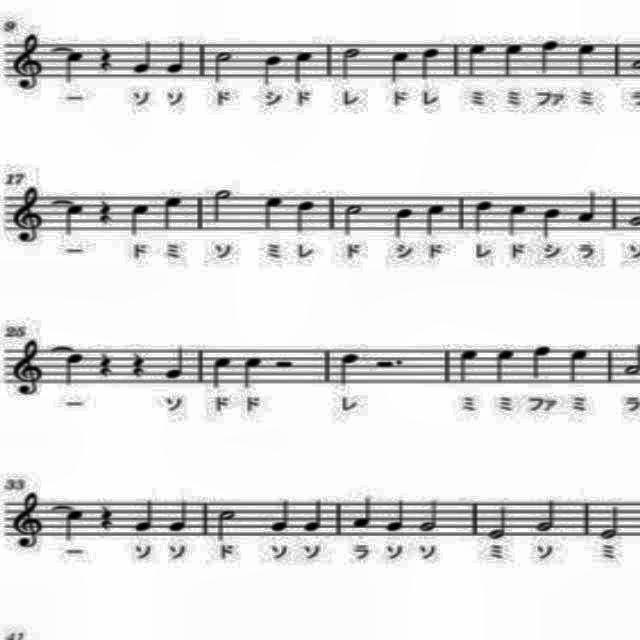Half-note: (595, 498, 629, 546), (207, 45, 239, 85), (532, 493, 560, 537), (338, 43, 366, 85), (206, 185, 234, 227), (485, 502, 511, 544), (214, 505, 242, 543), (342, 197, 366, 240), (417, 496, 441, 536)
Half-rest: (372, 352, 408, 372), (270, 356, 300, 372)
Quarter-note: (491, 341, 522, 384), (420, 196, 450, 240), (126, 195, 154, 241), (256, 192, 288, 232), (130, 34, 158, 78), (238, 350, 266, 394), (452, 342, 480, 386), (564, 344, 592, 388), (159, 190, 185, 236), (468, 195, 496, 237), (462, 40, 491, 80), (419, 42, 445, 86), (164, 36, 192, 76), (288, 44, 316, 84), (295, 198, 323, 238), (500, 40, 528, 80), (536, 37, 564, 77), (573, 38, 601, 78), (504, 199, 532, 239), (62, 350, 90, 390), (528, 342, 556, 382), (61, 504, 89, 544), (348, 493, 376, 533), (162, 344, 192, 381), (576, 189, 604, 227), (383, 49, 412, 85), (208, 351, 232, 394), (302, 495, 326, 537), (393, 205, 419, 243), (132, 499, 158, 536), (64, 198, 88, 238), (268, 499, 296, 533), (340, 351, 364, 389), (167, 499, 191, 536), (260, 49, 284, 86), (540, 203, 564, 240), (384, 496, 408, 532), (64, 48, 88, 84)
Quarter-rest: (94, 348, 120, 384), (94, 42, 118, 76), (94, 499, 118, 533), (94, 194, 118, 226), (126, 349, 150, 379)
Treble-clef: (2, 334, 50, 398), (11, 489, 54, 555), (9, 187, 53, 250), (12, 31, 48, 93)
